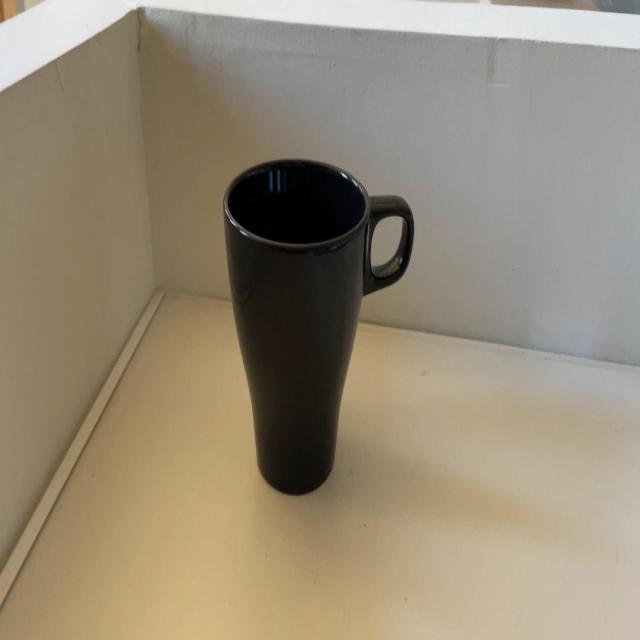cup: (219, 165, 416, 498)
